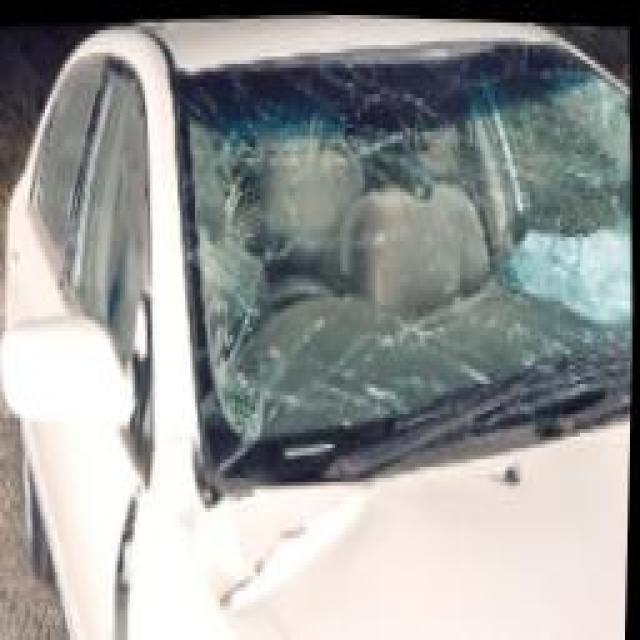Bonnet: (180, 459, 462, 640)
Windshield: (168, 30, 640, 440)
